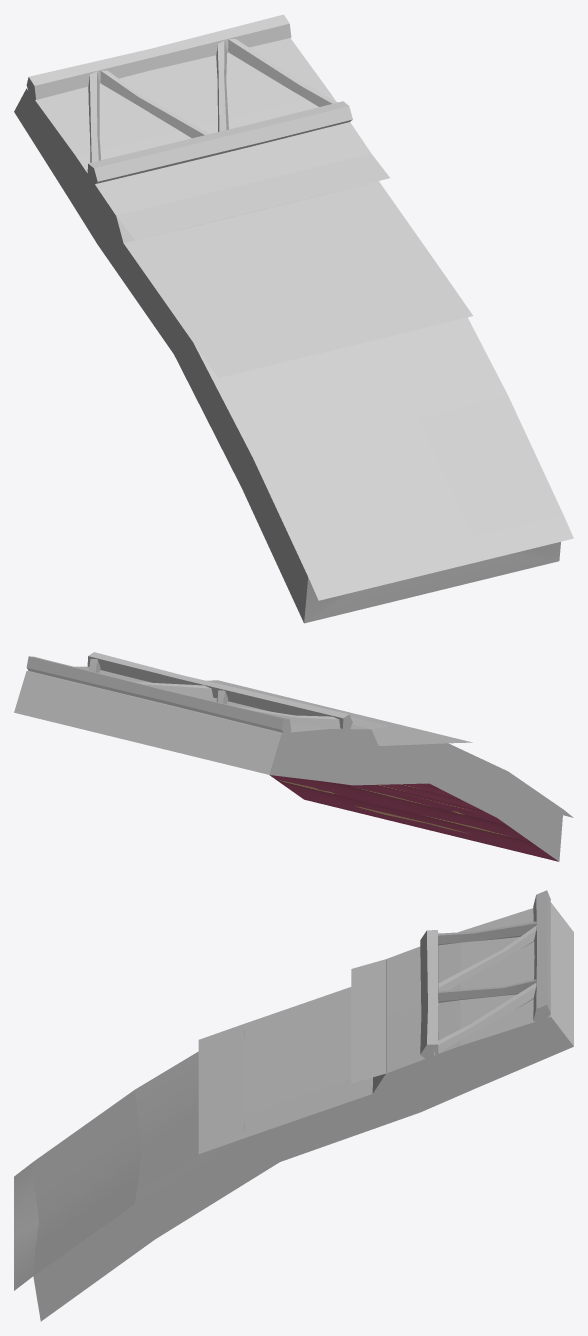
The model's file is SM_Bld_Roof_Thatch_Wide_01.fbx.
3 views of the same model, one above another, from view 1: azimuth 30°, elevation 25°; view 2: azimuth 150°, elevation 25°; view 3: azimuth 270°, elevation 25° (orthographic). The views are drawn at different scales.
Parts seen in each view (by area): view 1: SM_Bld_Roof_Thatch_Wide_01; view 2: SM_Bld_Roof_Thatch_Wide_01; view 3: SM_Bld_Roof_Thatch_Wide_01.
Boxes of the visible parts, <box> form: SM_Bld_Roof_Thatch_Wide_01: <box>14,14,573,623</box>; SM_Bld_Roof_Thatch_Wide_01: <box>14,652,573,861</box>; SM_Bld_Roof_Thatch_Wide_01: <box>14,890,573,1321</box>.
Size of the model in its own units: 251 by 323 by 517.
